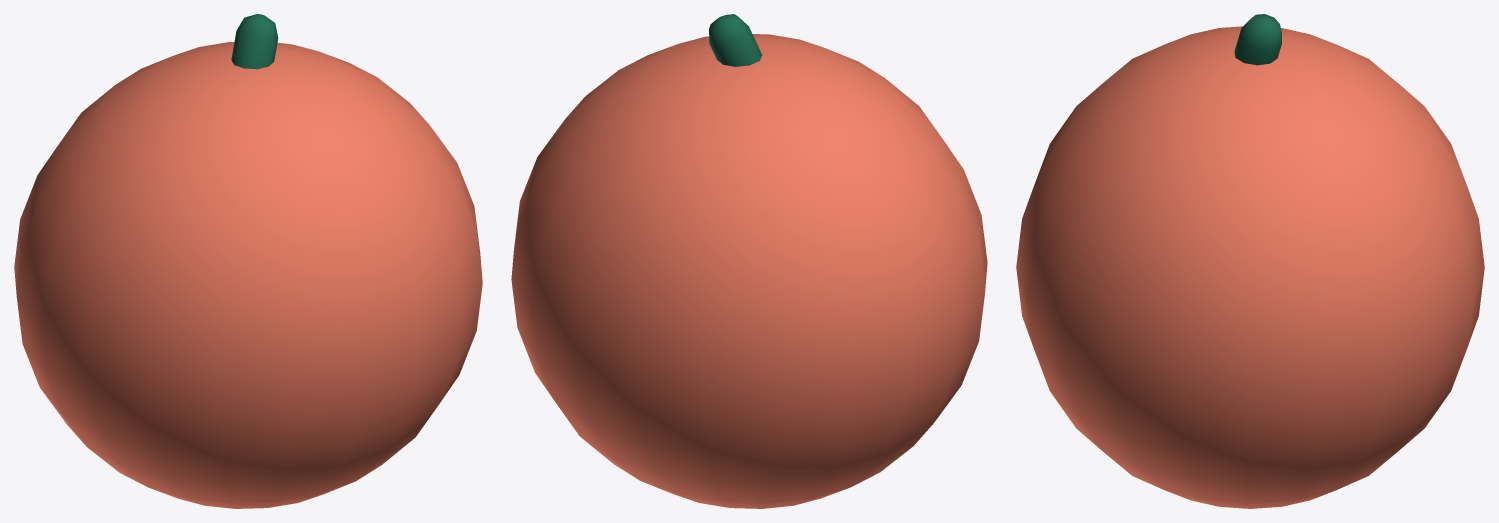
File: grapefruit.glb
3 renders of one model, left to right at view 1: azimuth 30°, elevation 25°; view 2: azimuth 150°, elevation 25°; view 3: azimuth 270°, elevation 25°, orthographic. The views are drawn at different scales.
Visible parts, largest first — view 1: grapefruit; view 2: grapefruit; view 3: grapefruit.
Part boxes in pixels (bbox=[...]): grapefruit: bbox=[14, 14, 482, 508]; grapefruit: bbox=[511, 14, 987, 508]; grapefruit: bbox=[1016, 14, 1484, 508].
Size of the model in its own units: 0.516 by 0.5538 by 0.494.
